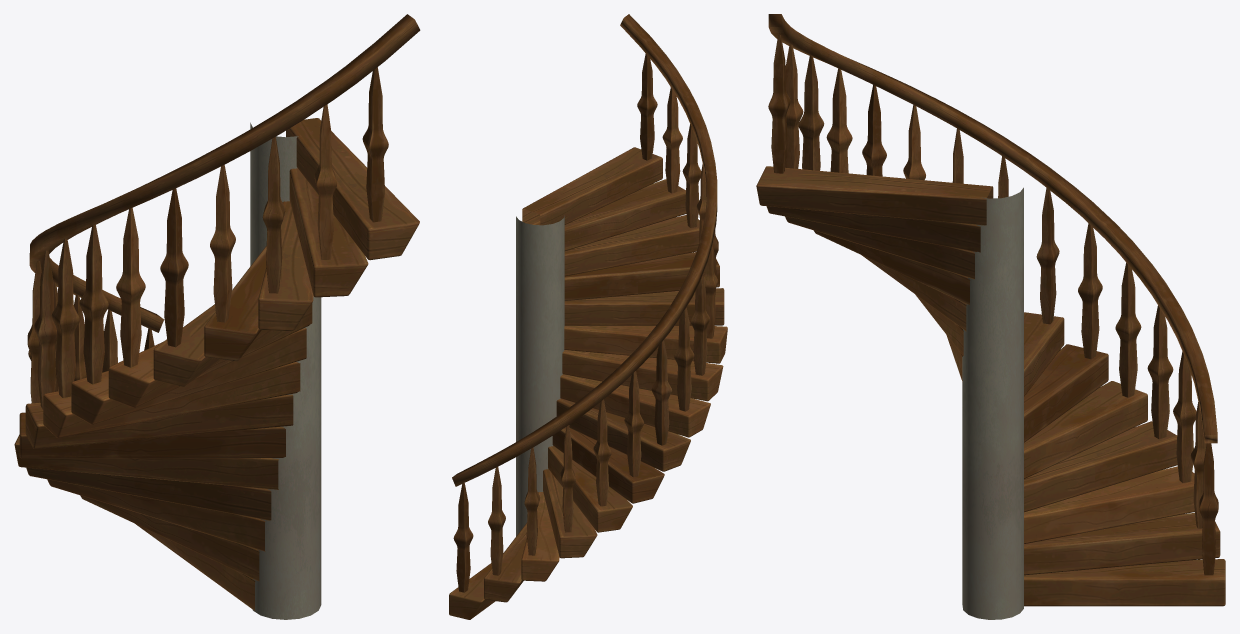
The model's file is SM_Stairs_Spiral.gltf.
The picture shows the model from 3 angles, left to right: view 1: azimuth 30°, elevation 25°; view 2: azimuth 150°, elevation 25°; view 3: azimuth 270°, elevation 25°; orthographic projection. The views are drawn at different scales.
Parts seen in each view (by area): view 1: SM_Stairs_Spiral; view 2: SM_Stairs_Spiral; view 3: SM_Stairs_Spiral.
Part boxes in pixels (x1,y1,x2,y2): SM_Stairs_Spiral: [14, 14, 420, 619]; SM_Stairs_Spiral: [449, 14, 727, 619]; SM_Stairs_Spiral: [756, 14, 1225, 619].
Size of the model in its own units: 1.72 by 4.22 by 3.03.
Materials: 2 (2 with a texture image).
